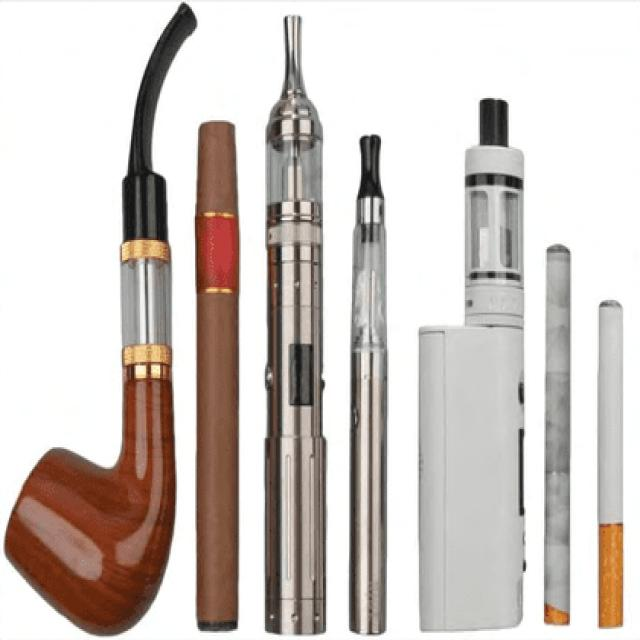Cigarette: (4, 3, 198, 635), (418, 99, 523, 629), (264, 16, 325, 632), (192, 115, 239, 633), (346, 130, 391, 635), (540, 241, 575, 627), (595, 297, 625, 628)
